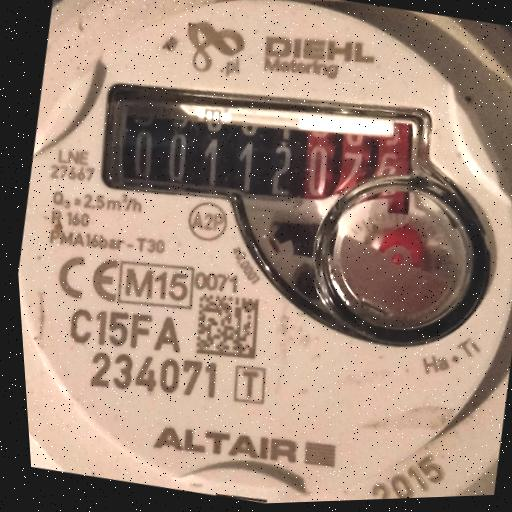0: (149, 114, 208, 189), (293, 126, 349, 204), (111, 111, 169, 186)
1: (219, 120, 277, 200), (188, 117, 241, 191)
2: (253, 121, 317, 202)
6: (358, 113, 424, 187)
7: (327, 129, 380, 202)
border_water_meter_number: (84, 47, 447, 249)
